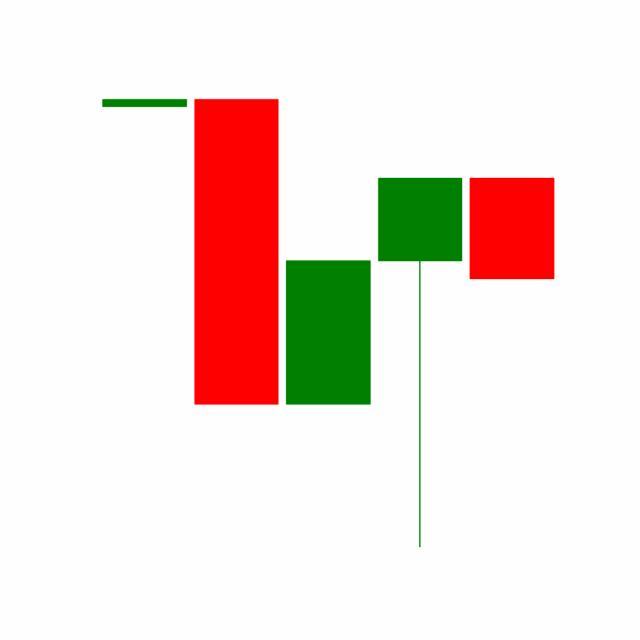Hanging Man: (373, 173, 467, 551)
